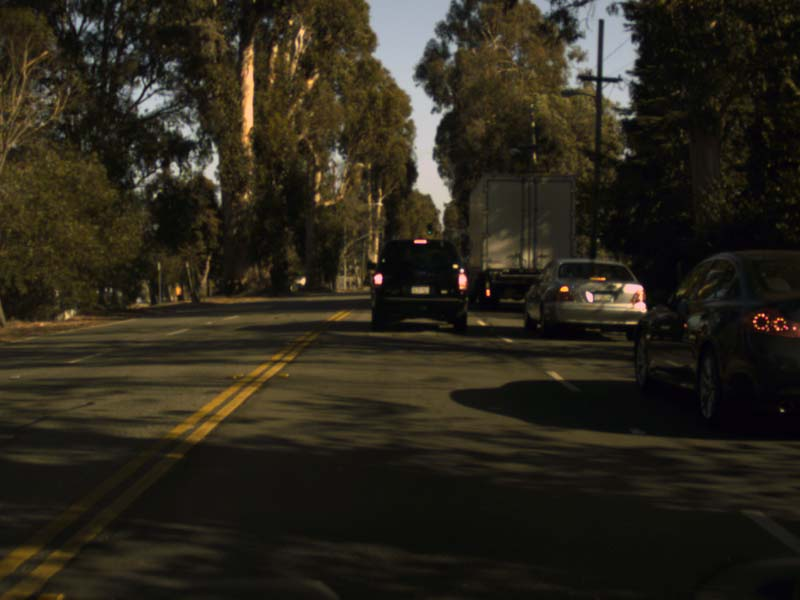Green: (427, 224, 432, 234)
